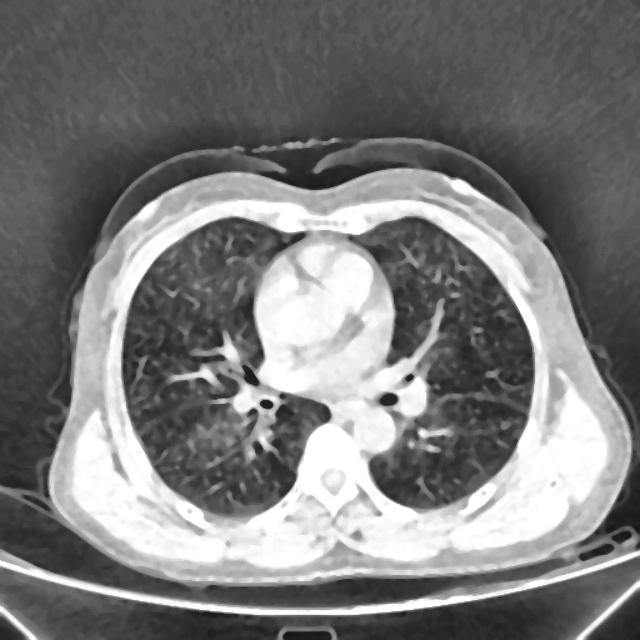covid: (42, 137, 633, 588)
